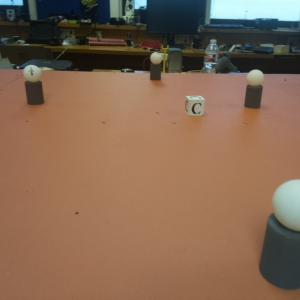blockC: (184, 96, 203, 115)
obstacle: (259, 176, 300, 288), (23, 66, 45, 104), (245, 70, 264, 109), (149, 53, 162, 79)
